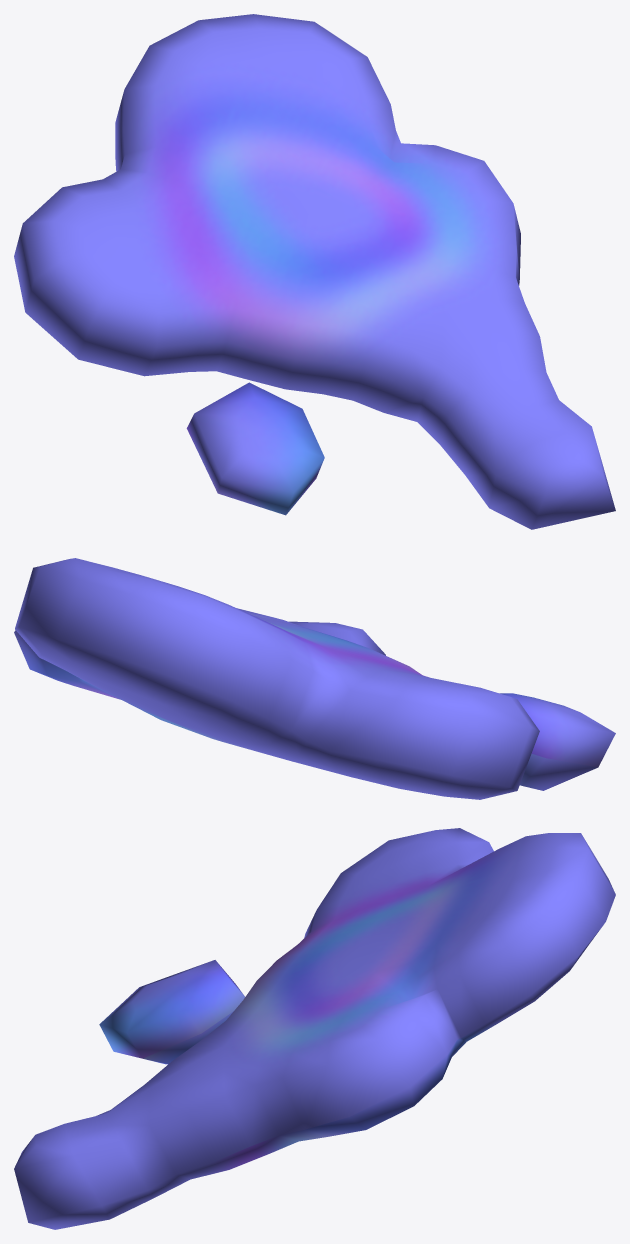
The model's file is p_mesh_trashbot_destruction_arenagoop01.fbx.
The picture shows the model from 3 angles, top to bottom: view 1: azimuth 30°, elevation 25°; view 2: azimuth 150°, elevation 25°; view 3: azimuth 270°, elevation 25°; orthographic projection. The views are drawn at different scales.
Visible parts, largest first — view 1: trashbot_destruction_goop1; view 2: trashbot_destruction_goop1; view 3: trashbot_destruction_goop1.
Boxes of the visible parts, x1=… form: trashbot_destruction_goop1: x1=14, y1=14, x2=615, y2=529; trashbot_destruction_goop1: x1=14, y1=558, x2=615, y2=799; trashbot_destruction_goop1: x1=14, y1=828, x2=615, y2=1229.
Bounding box in the file's own units: 27.1 × 18.47 × 31.07.
